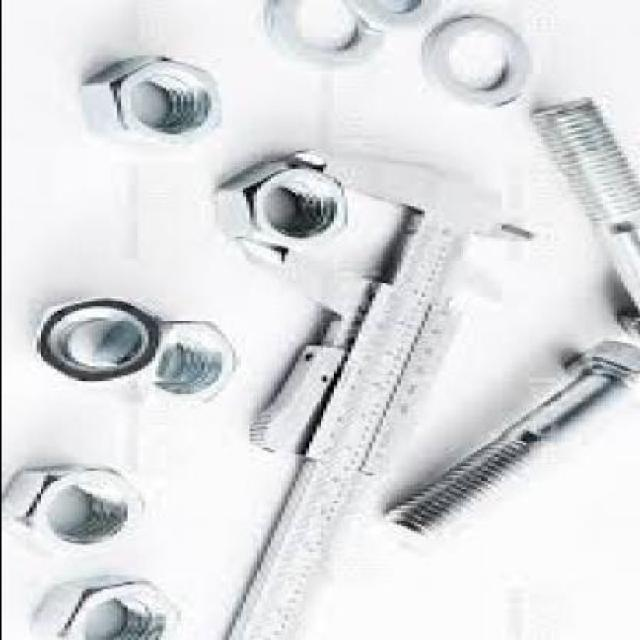METAL: (227, 148, 553, 638), (384, 335, 638, 534), (536, 95, 638, 340), (206, 157, 346, 265), (80, 53, 231, 139), (32, 294, 175, 378), (11, 464, 143, 545), (427, 11, 531, 107), (31, 574, 182, 638), (136, 316, 238, 402), (266, 0, 382, 68), (342, 0, 443, 32)
